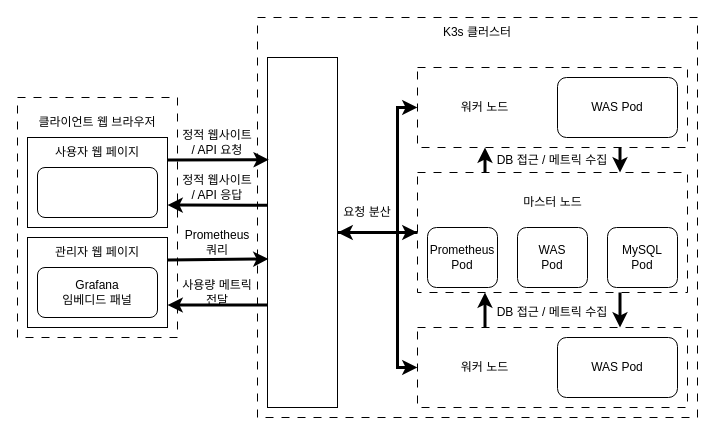
Image size: 715x435. Some labels were removed from this diagram. The shapes that lost their labels are listed below. From the top down, each one's box as (x1, y1, x2, y2) in pixels, then its label:
(36, 166, 158, 218): 정적 웹 페이지
(266, 56, 338, 408): NodePort / kube-proxy
